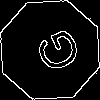G: (25, 25, 84, 81)
